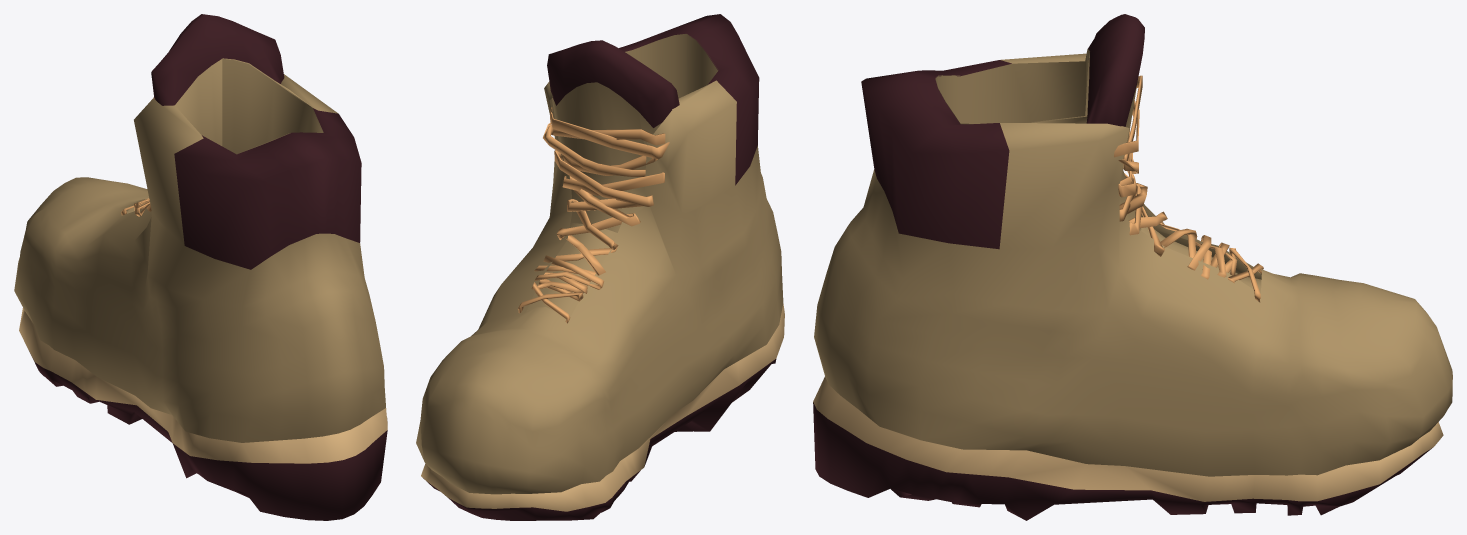
Rendered from Right Boot.fbx.
The picture shows the model from 3 angles, left to right: view 1: azimuth 30°, elevation 25°; view 2: azimuth 150°, elevation 25°; view 3: azimuth 270°, elevation 25°; orthographic projection. The views are drawn at different scales.
Parts seen in each view (by area): view 1: inside, Cube.001; view 2: inside, Cube.005, Cube.004, Cube.001; view 3: inside, Cube.005, Cube.004.
Part boxes in pixels (x1,y1,x2,y2): inside: [14, 14, 387, 520]; Cube.001: [222, 58, 322, 154]; inside: [416, 14, 784, 520]; Cube.005: [518, 107, 669, 323]; Cube.004: [543, 122, 665, 275]; Cube.001: [625, 34, 718, 98]; inside: [813, 14, 1452, 520]; Cube.005: [1114, 100, 1263, 302]; Cube.004: [1118, 75, 1197, 256].
Bounding box in the file's own units: 0.303 × 0.6386 × 0.7847.
